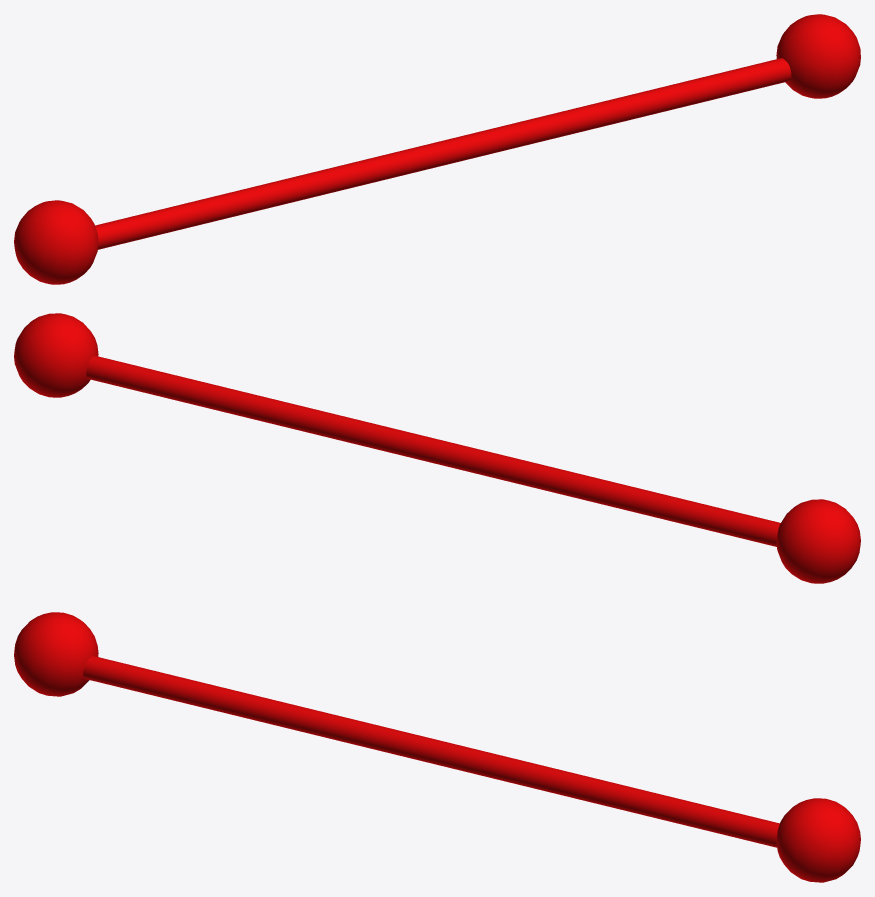
Rendered from line_red.glb.
3 views of the same model, one above another, from view 1: azimuth 30°, elevation 25°; view 2: azimuth 150°, elevation 25°; view 3: azimuth 330°, elevation 25° (orthographic).
Parts seen in each view (by area): view 1: NurbsPath.003, Sphere.008, Sphere.007; view 2: NurbsPath.003, Sphere.008, Sphere.007; view 3: NurbsPath.003, Sphere.007, Sphere.008.
Part boxes in pixels (box(x1,y1,x2,y2)): NurbsPath.003: box(95, 58, 791, 249); Sphere.008: box(14, 200, 98, 284); Sphere.007: box(776, 14, 860, 98); NurbsPath.003: box(86, 355, 780, 546); Sphere.008: box(776, 499, 860, 583); Sphere.007: box(14, 313, 98, 397); NurbsPath.003: box(83, 656, 779, 847); Sphere.007: box(776, 798, 860, 882); Sphere.008: box(14, 612, 98, 696).
Bounding box in the file's own units: 1.92 × 0.1688 × 0.1688.
